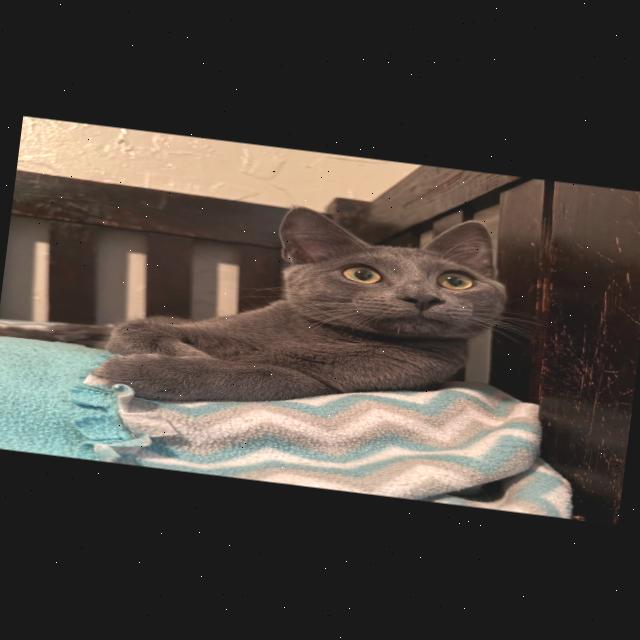russian_blue_cat: (258, 192, 530, 360)
